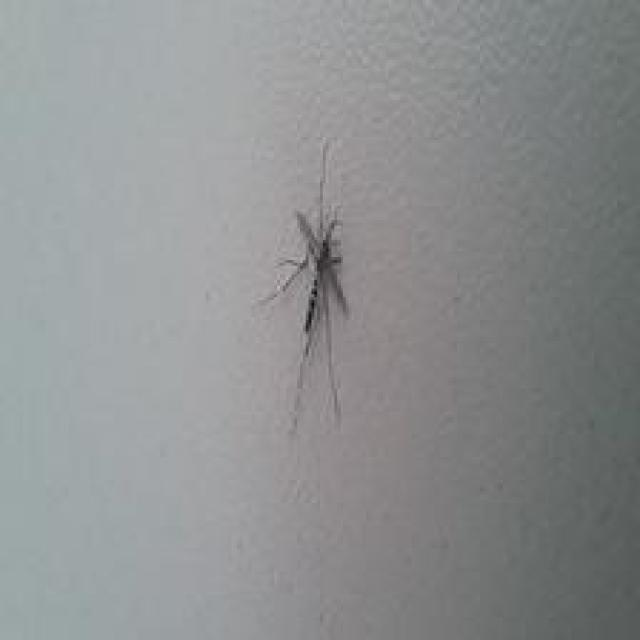Aedes albopictus: (257, 140, 354, 437)
